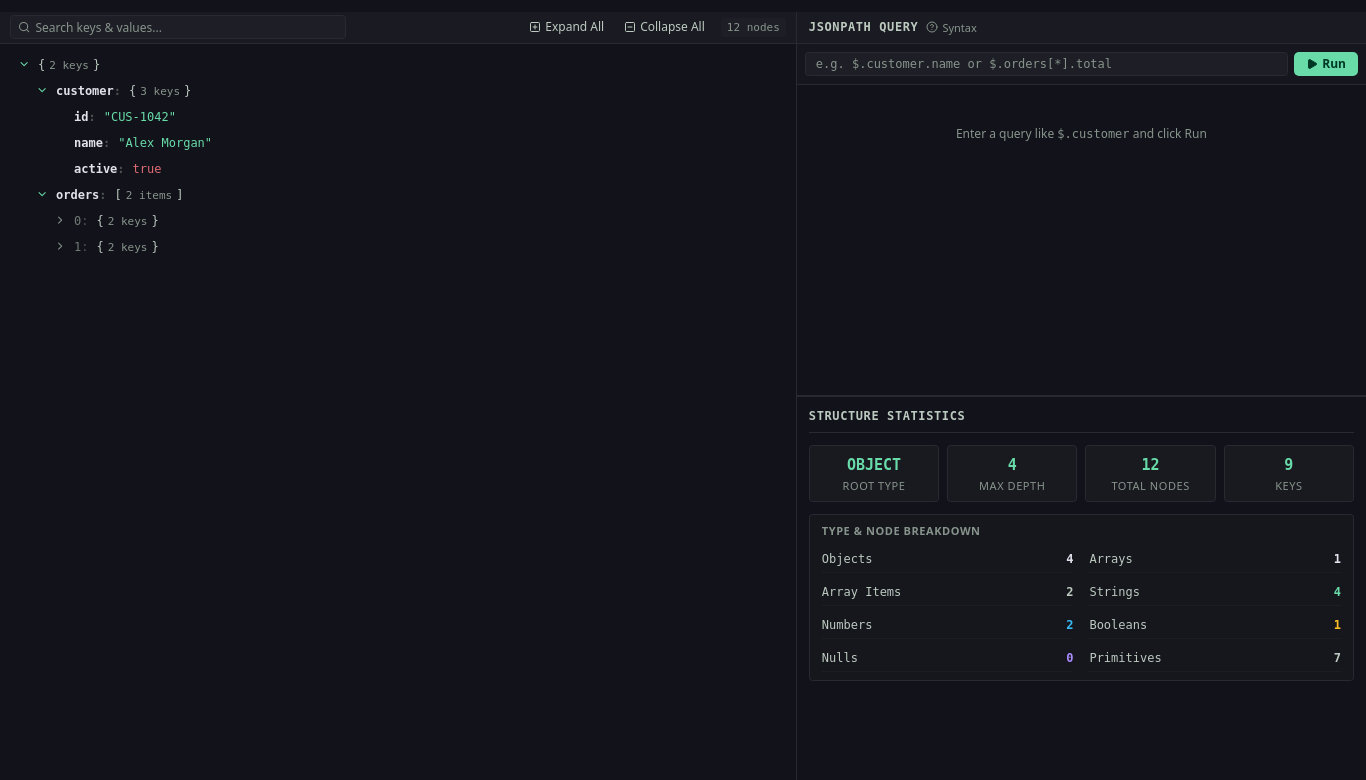
Test case: Inspector Component Suite › searches within tree, highlights, and navigates matches
Type "ORD-" into the search field named "search tree" at (178, 27), box [10, 15, 346, 39]
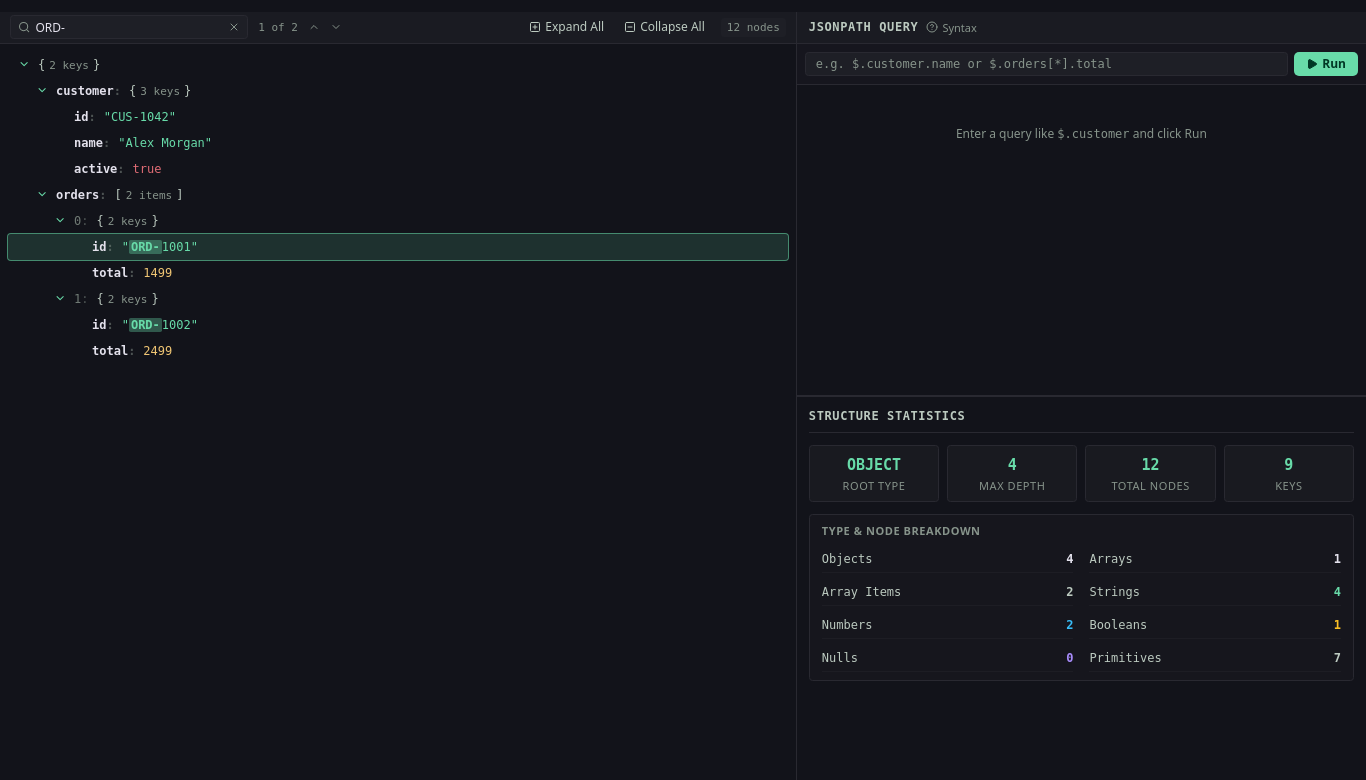
expect the text "1 of 2" is shown: met, box [258, 21, 298, 34]
# Next match navigation
Click the button named "next match" at (336, 27), box [326, 17, 346, 37]
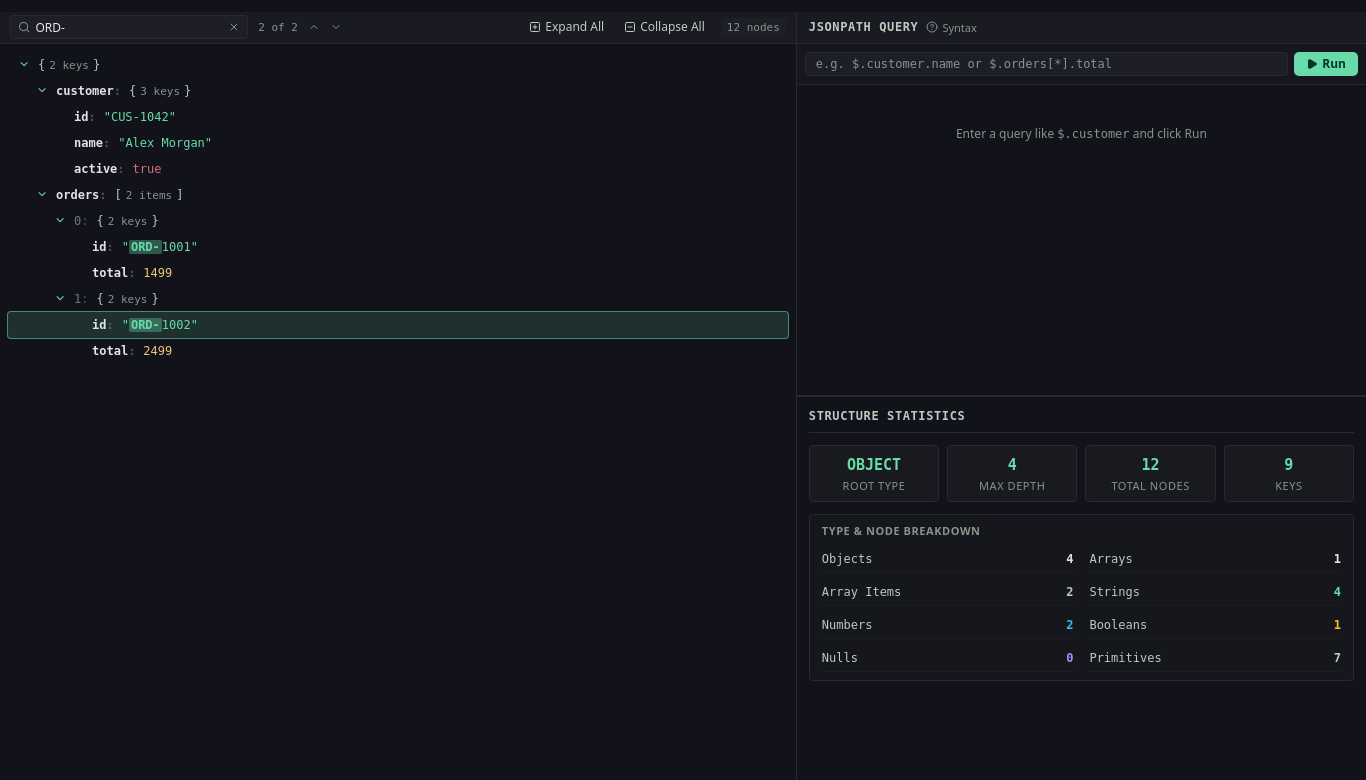
expect the text "2 of 2" is shown: met, box [258, 21, 298, 34]
# Clear search
Click the button named "clear search" at (234, 27), box [226, 19, 242, 35]
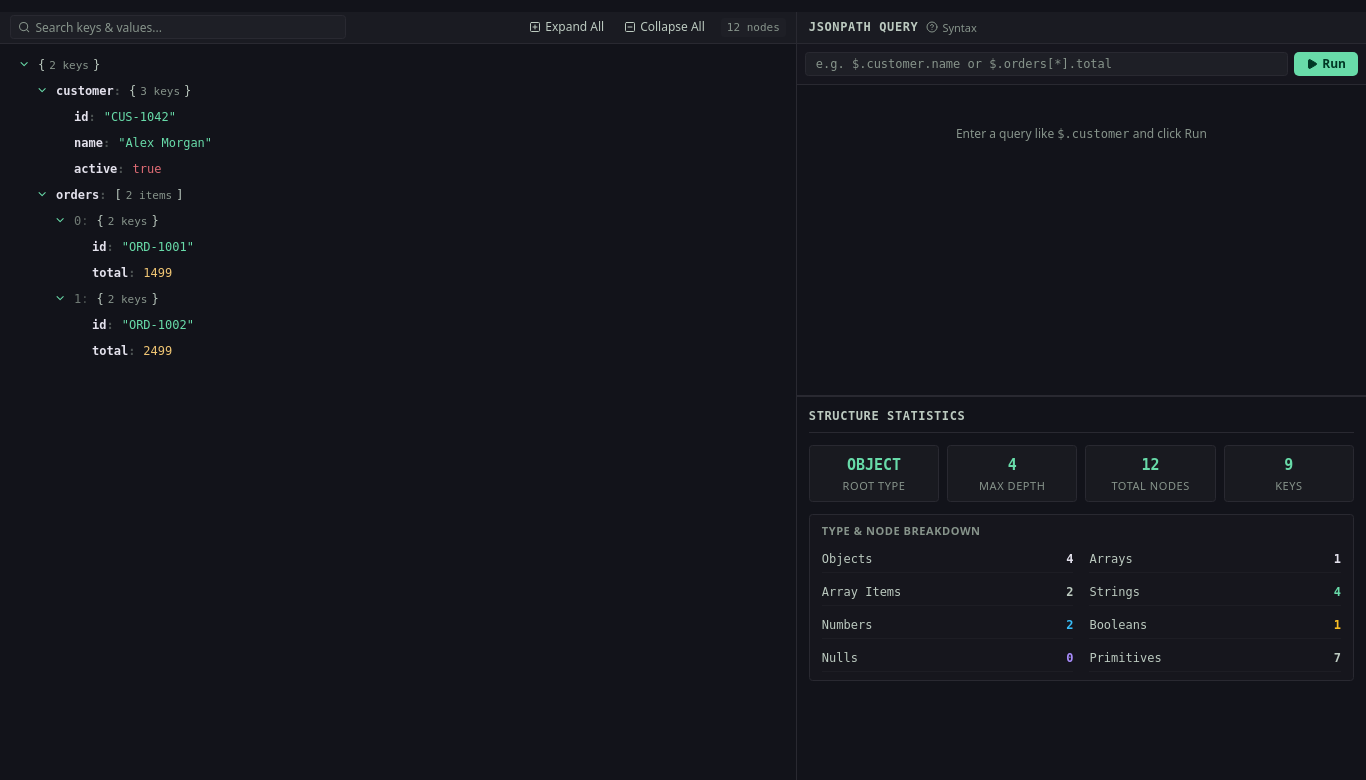
expect the search field named "search tree" is empty: met, box [10, 15, 346, 39]
